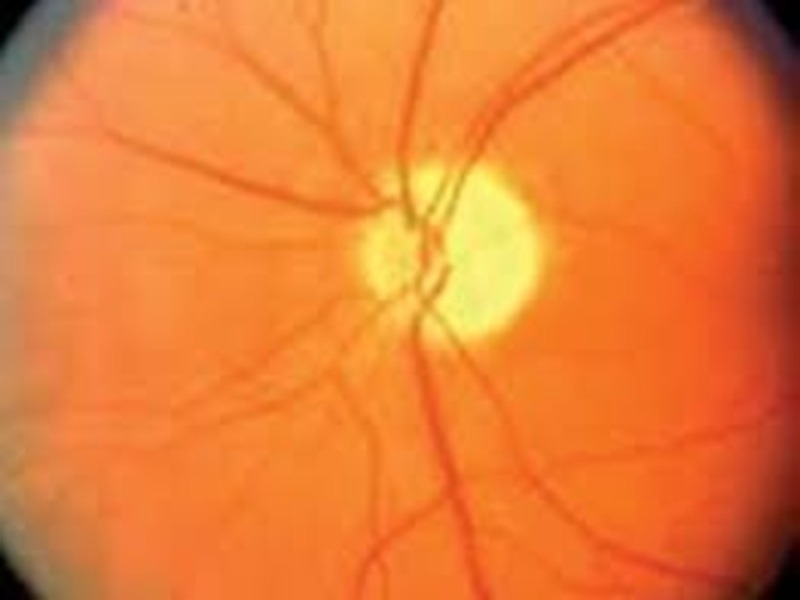Optic Cup: (422, 174, 540, 339)
Optic Disc: (366, 163, 456, 321)
